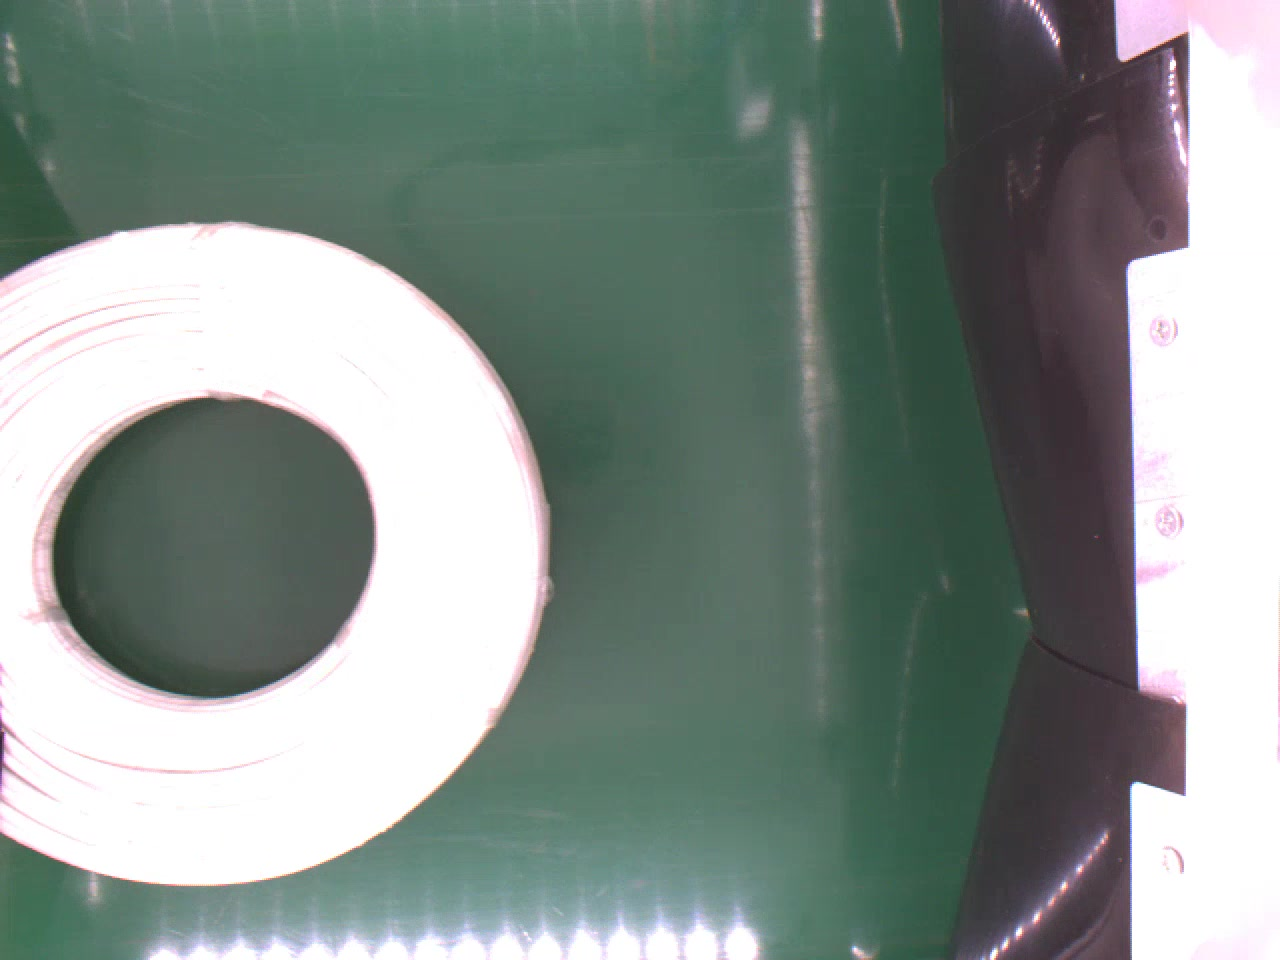white: (0, 217, 555, 889)
